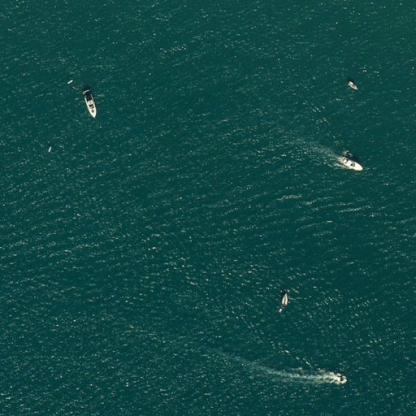ship: (76, 83, 104, 122), (330, 147, 366, 175), (320, 368, 354, 387), (276, 286, 292, 314), (341, 74, 362, 93)
